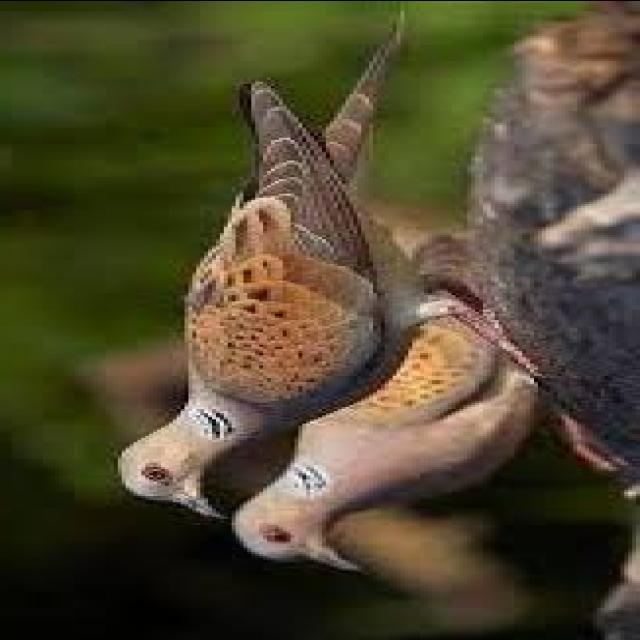pigeon: (75, 56, 457, 533)
